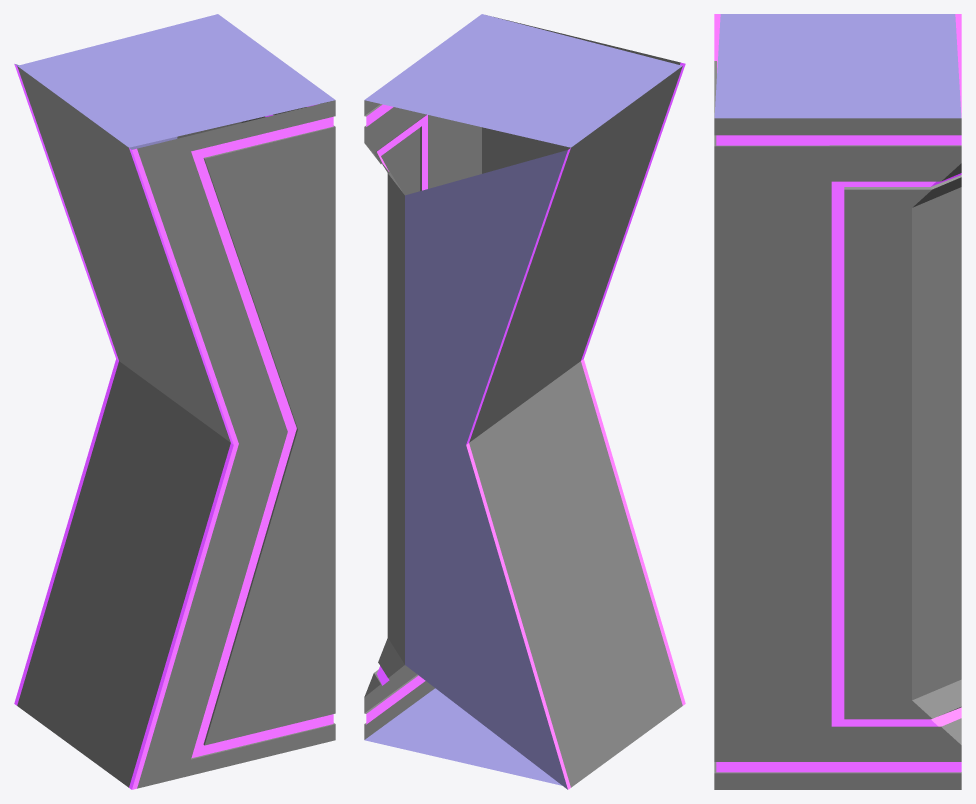
Rendered from TunnelThinEnd.FBX.
3 renders of one model, left to right at view 1: azimuth 30°, elevation 25°; view 2: azimuth 150°, elevation 25°; view 3: azimuth 270°, elevation 25°, orthographic. The views are drawn at different scales.
Visible parts, largest first — view 1: TunneThinEnd; view 2: TunneThinEnd; view 3: TunneThinEnd.
Part boxes in pixels (box(x1,y1,x2,y2)): TunneThinEnd: box(14, 14, 335, 789); TunneThinEnd: box(364, 14, 685, 789); TunneThinEnd: box(714, 14, 961, 789).
Size of the model in its own units: 100 by 100 by 300.
